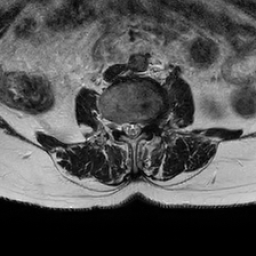CCS_stenosis: (128, 113, 136, 145)
LFS_severe_stenosis: (142, 109, 152, 131)
LLS_normal: (136, 114, 142, 141)
RFS_normal: (113, 113, 121, 138)
RLS_normal: (121, 114, 128, 140)
